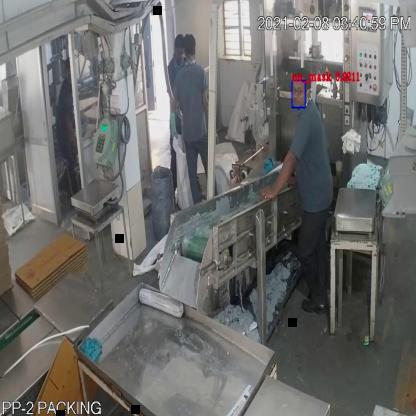no_glove: (260, 144, 300, 204)
